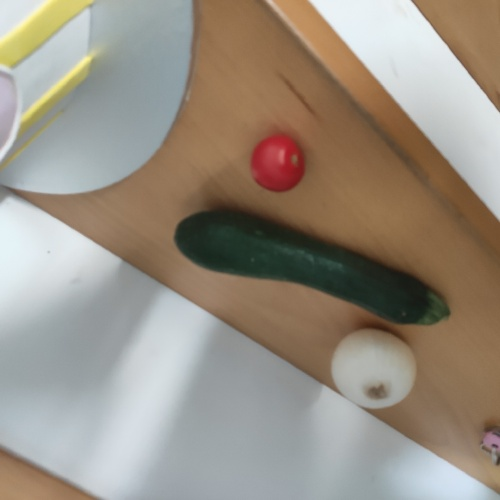cipolla: (332, 326, 429, 413)
pomodoro: (249, 135, 316, 197)
zucchine: (170, 203, 459, 330)
